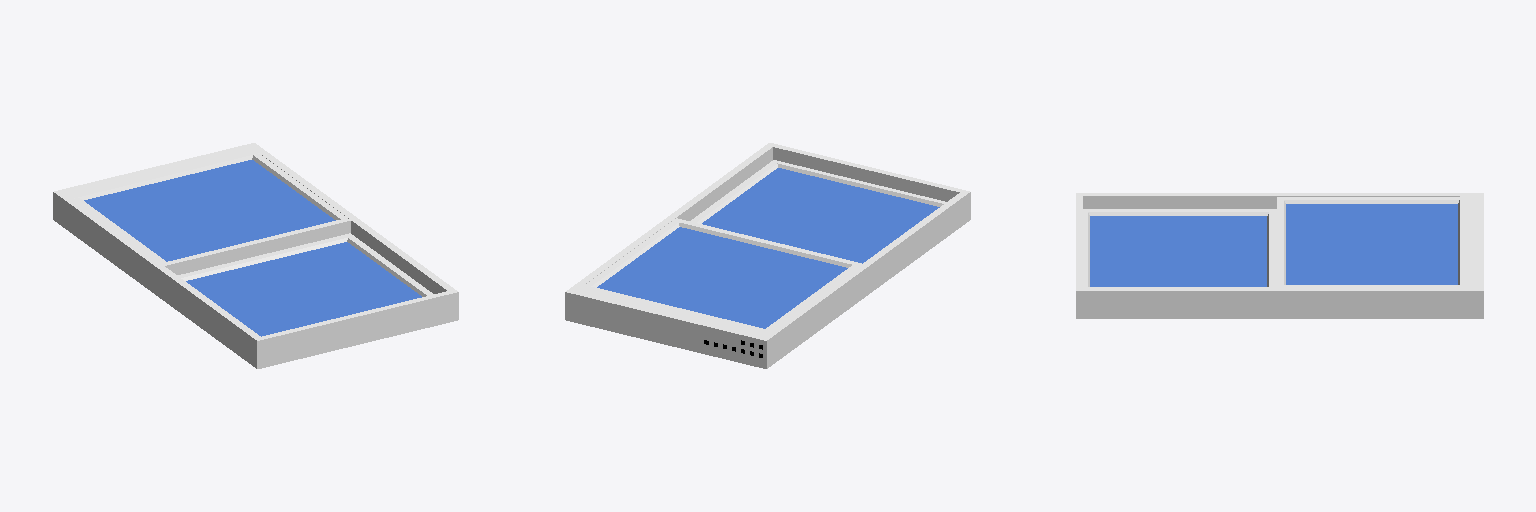
Rendered from cat9_window.obj.
3 renders of one model, left to right at view 1: azimuth 30°, elevation 25°; view 2: azimuth 150°, elevation 25°; view 3: azimuth 270°, elevation 25°, orthographic.
Parts seen in each view (by area): view 1: Layer_Layer0, Translucent_Glass_Blue; view 2: Translucent_Glass_Blue, Layer_Layer0; view 3: Translucent_Glass_Blue, Layer_Layer0.
Boxes of the visible parts, box(x1,y1,x2,y2) form: Layer_Layer0: box(53, 143, 458, 368); Translucent_Glass_Blue: box(84, 160, 421, 336); Translucent_Glass_Blue: box(597, 168, 939, 328); Layer_Layer0: box(565, 143, 970, 368); Translucent_Glass_Blue: box(1090, 204, 1457, 286); Layer_Layer0: box(1076, 193, 1483, 318).
Size of the model in its own units: 37 by 4.98 by 65.01.